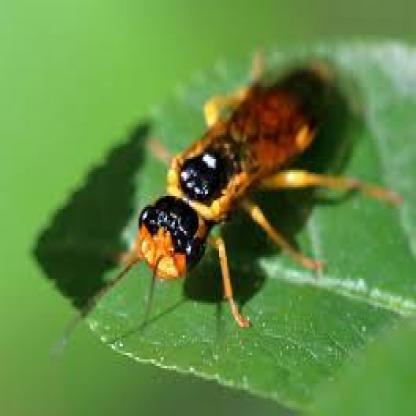sawfly: (91, 40, 399, 329)
